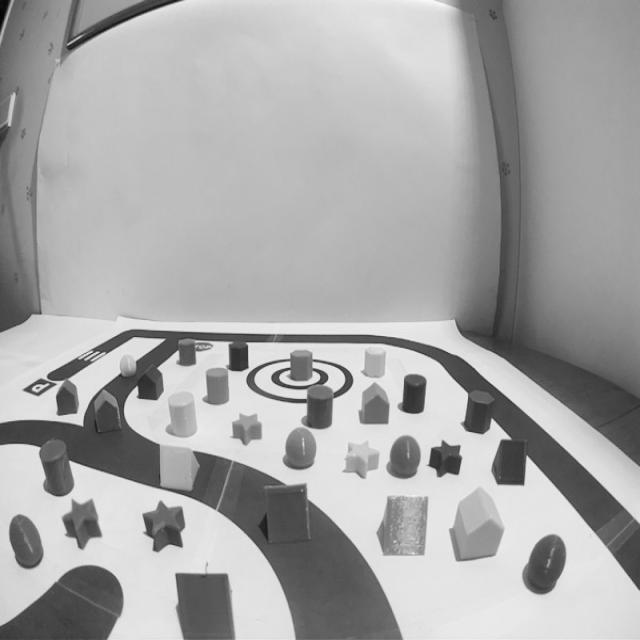ball: (524, 532, 571, 596), (8, 513, 46, 570), (386, 433, 424, 482), (283, 426, 321, 474), (116, 351, 138, 380)
cockade: (243, 354, 357, 405)
cylinder: (38, 437, 76, 497), (168, 389, 200, 438), (305, 381, 335, 432), (402, 370, 428, 417), (204, 365, 231, 408)
hexagon: (462, 387, 494, 438), (287, 346, 313, 383), (363, 343, 387, 381)
home: (451, 484, 506, 564), (358, 380, 393, 428), (92, 388, 124, 437), (136, 362, 165, 405), (55, 375, 81, 419)
laneLeftTurn: (224, 509, 411, 640)
star: (139, 496, 188, 556), (61, 495, 104, 551), (342, 436, 380, 481), (427, 437, 463, 479), (229, 409, 264, 446)
triangle: (172, 568, 242, 640), (376, 492, 431, 564), (261, 482, 314, 546), (157, 441, 200, 496), (490, 435, 530, 489)
